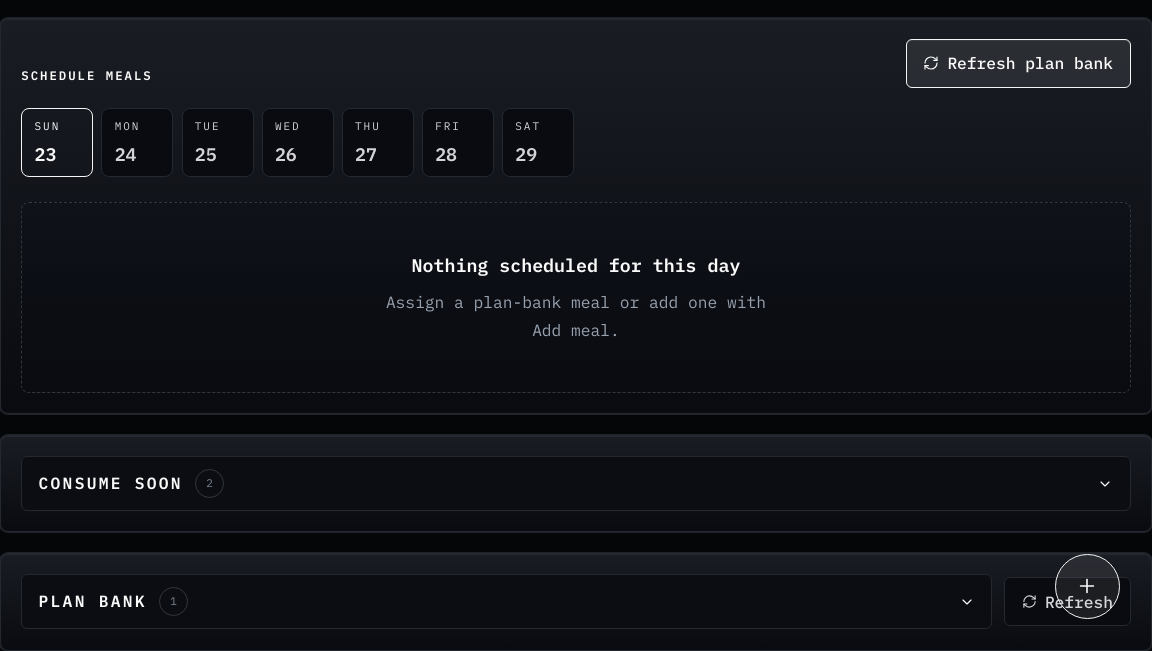
it: MealPlanner › shows direct consume suggestions for ready-to-eat items nearing expiry
This screenshot has width=1152, height=651.
(page scrolled)
Expected: the heading "Consume soon" is shown, top-left (39, 471), bottom-right (183, 496)
Step 1. Click the button "Consume soon 2" → (111, 483), box top-left (21, 456), bottom-right (1131, 511)
(page scrolled)
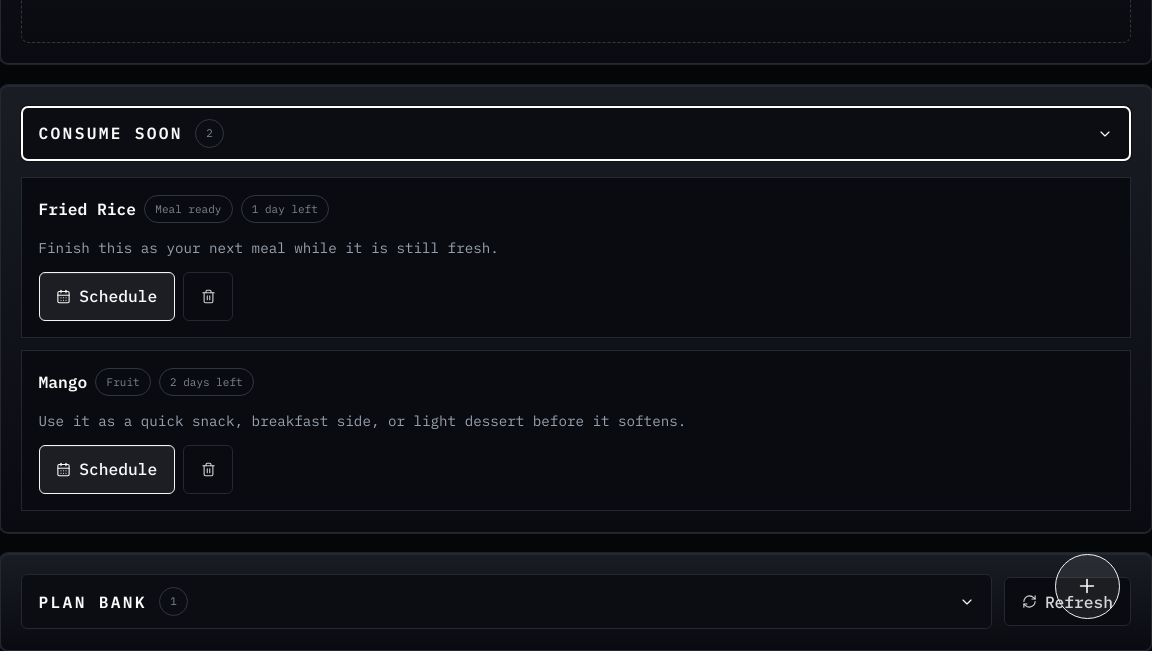
Result: the heading "Fried Rice" is shown at top-left (39, 197), bottom-right (136, 221)
Result: the heading "Mango" is shown at top-left (39, 370), bottom-right (87, 394)
Step 2. Click the button named "Dismiss Fried Rice from consume soon" → (208, 297), box top-left (183, 272), bottom-right (233, 321)
(page scrolled)
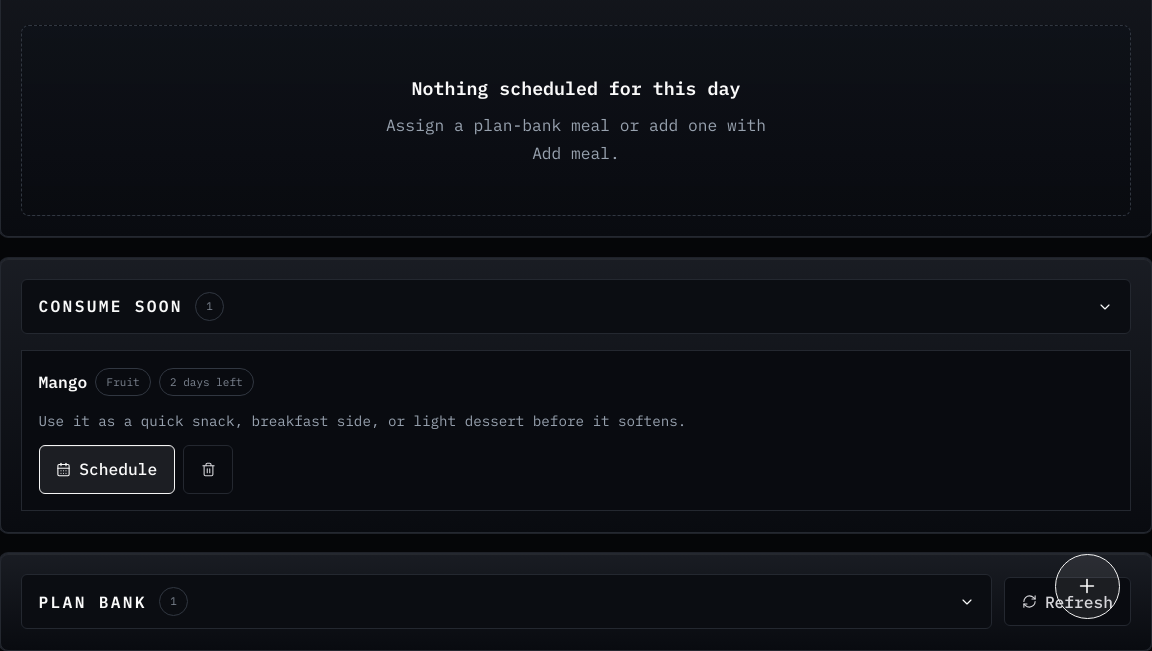
Result: the heading "Fried Rice" is gone
Step 3. Click the button "Plan bank 1" → (93, 601), box top-left (21, 574), bottom-right (992, 629)
(page scrolled)
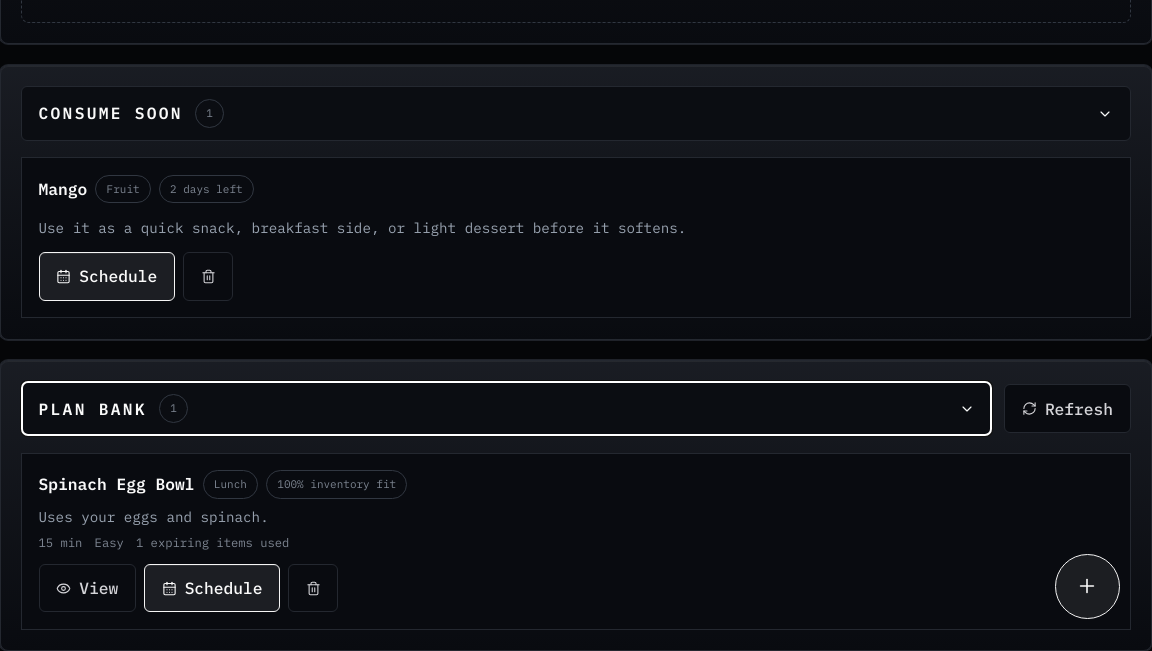
Result: the heading "Spinach Egg Bowl" is shown at top-left (39, 472), bottom-right (195, 496)
Step 4. Click the button named "Remove Spinach Egg Bowl from plan bank" → (313, 588), box top-left (288, 564), bottom-right (338, 612)
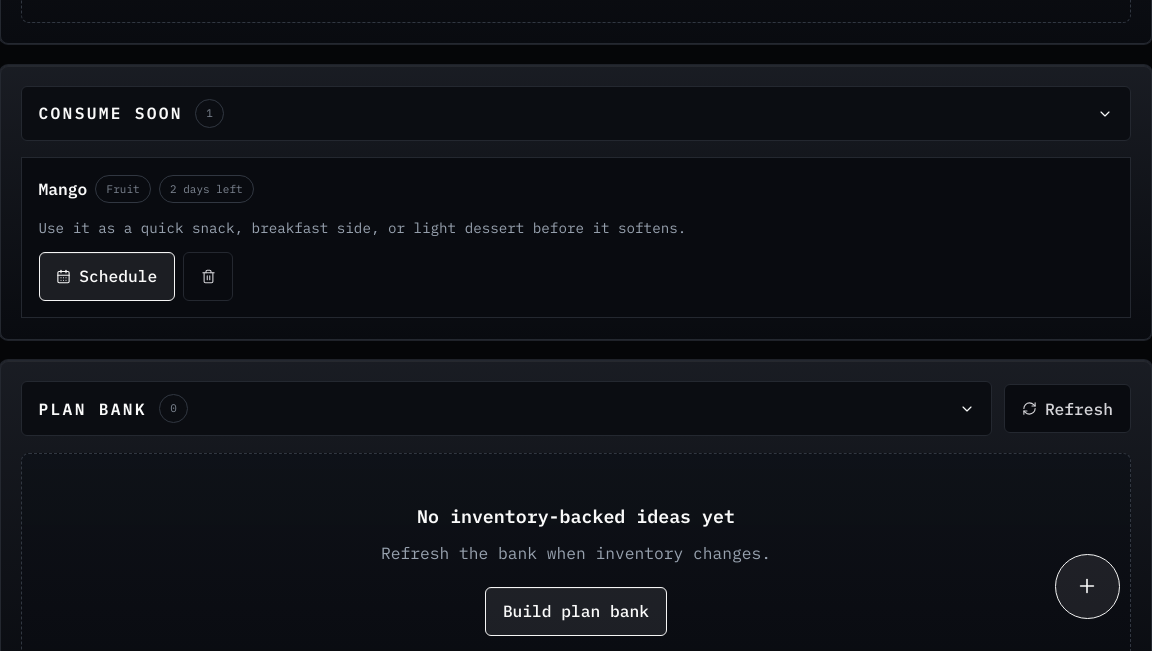
Result: the heading "Spinach Egg Bowl" is gone
